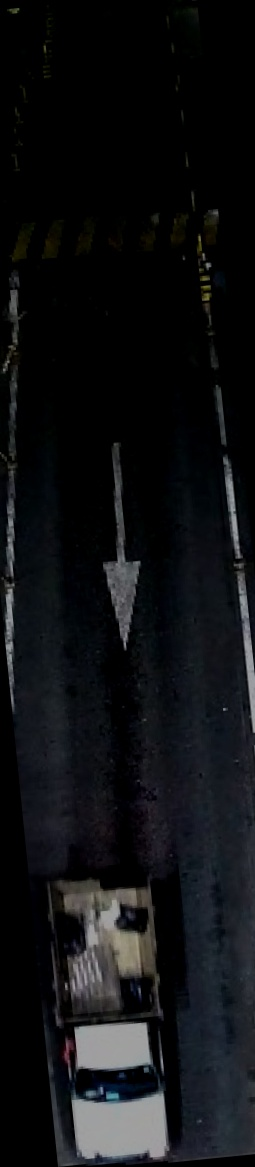car: (44, 856, 193, 1166)
